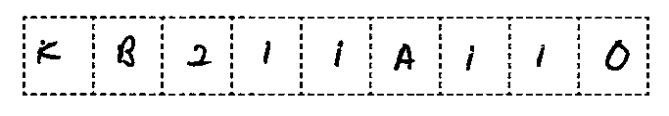0: (597, 36, 636, 74)
1: (320, 35, 355, 73), (456, 42, 484, 78), (252, 34, 282, 67), (527, 40, 553, 72)
2: (180, 38, 215, 72)
A: (387, 41, 424, 78)
B: (111, 31, 142, 71)
K: (30, 34, 65, 69)
